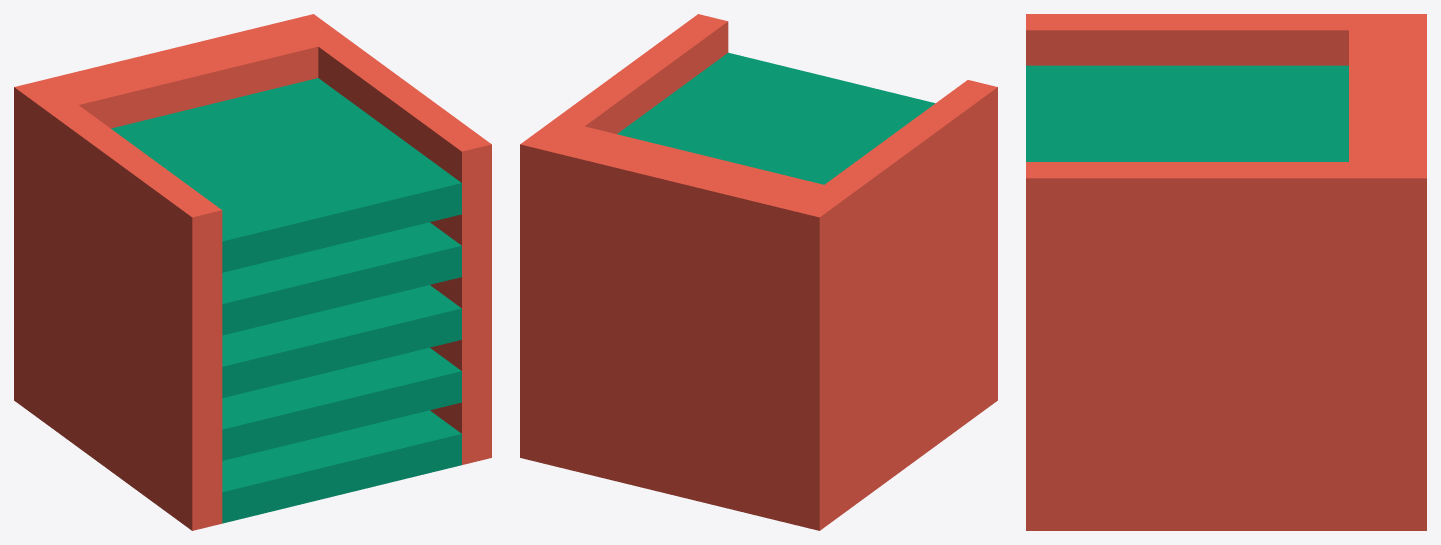
File: end.glb
The picture shows the model from 3 angles, left to right: view 1: azimuth 30°, elevation 25°; view 2: azimuth 150°, elevation 25°; view 3: azimuth 270°, elevation 25°; orthographic projection. The views are drawn at different scales.
Visible parts, largest first — view 1: mergedBlocks(Clone); view 2: mergedBlocks(Clone); view 3: mergedBlocks(Clone).
Boxes of the visible parts, x1,y1,x2,y2 form: mergedBlocks(Clone): (14, 14, 491, 530); mergedBlocks(Clone): (520, 14, 997, 530); mergedBlocks(Clone): (1026, 14, 1426, 530).
Bounding box in the file's own units: 1 × 1 × 1.03.
